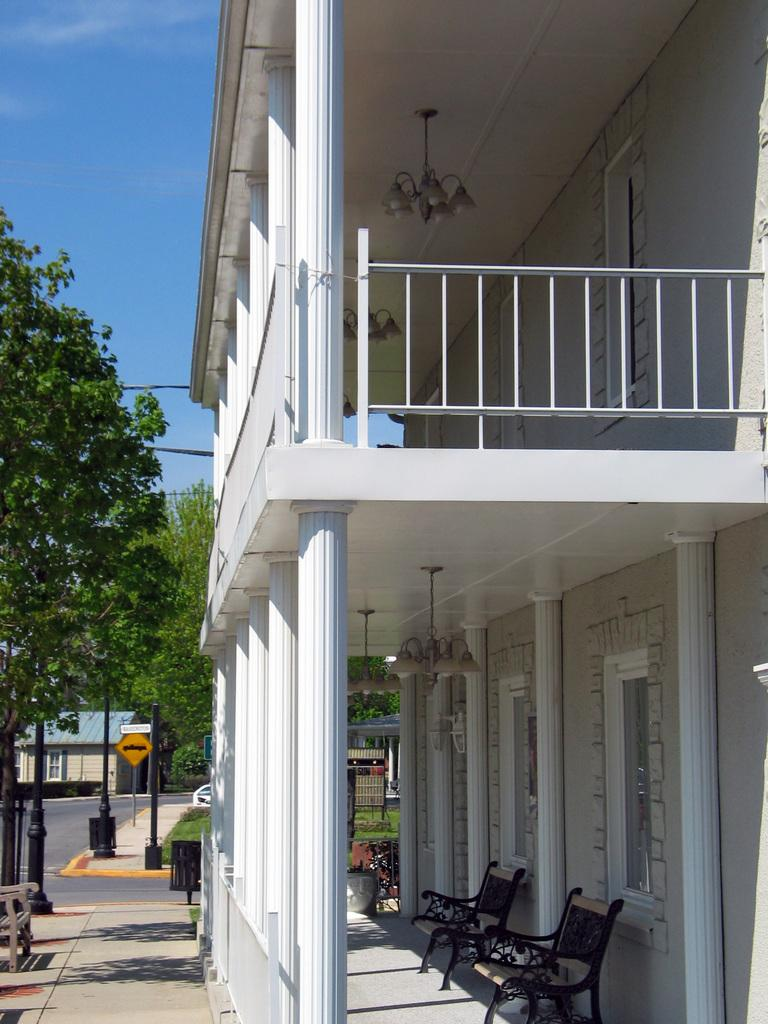Chair: (429, 877, 627, 1021)
